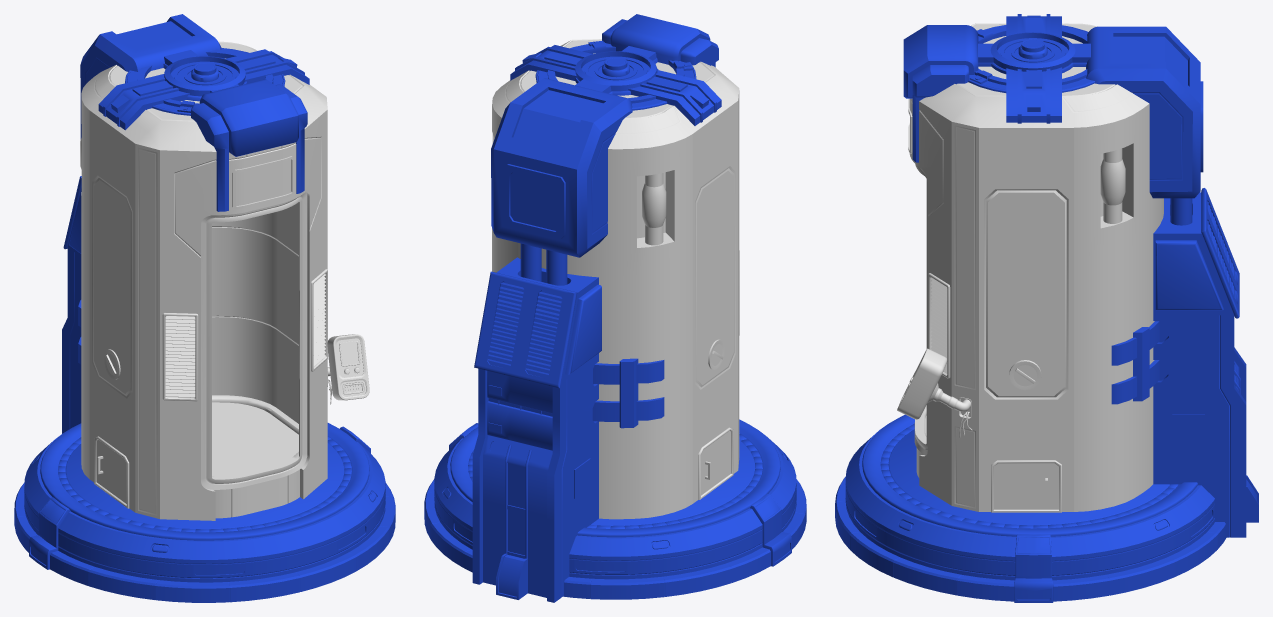
File: carregadorRobot.fbx
The picture shows the model from 3 angles, left to right: view 1: azimuth 30°, elevation 25°; view 2: azimuth 150°, elevation 25°; view 3: azimuth 270°, elevation 25°; orthographic projection. The views are drawn at different scales.
Parts seen in each view (by area): view 1: CAPSULA; view 2: CAPSULA; view 3: CAPSULA.
Part boxes in pixels (x1,y1,x2,y2): CAPSULA: [14, 14, 395, 602]; CAPSULA: [424, 14, 806, 602]; CAPSULA: [835, 14, 1258, 602].
Size of the model in its own units: 278 by 364 by 292.
